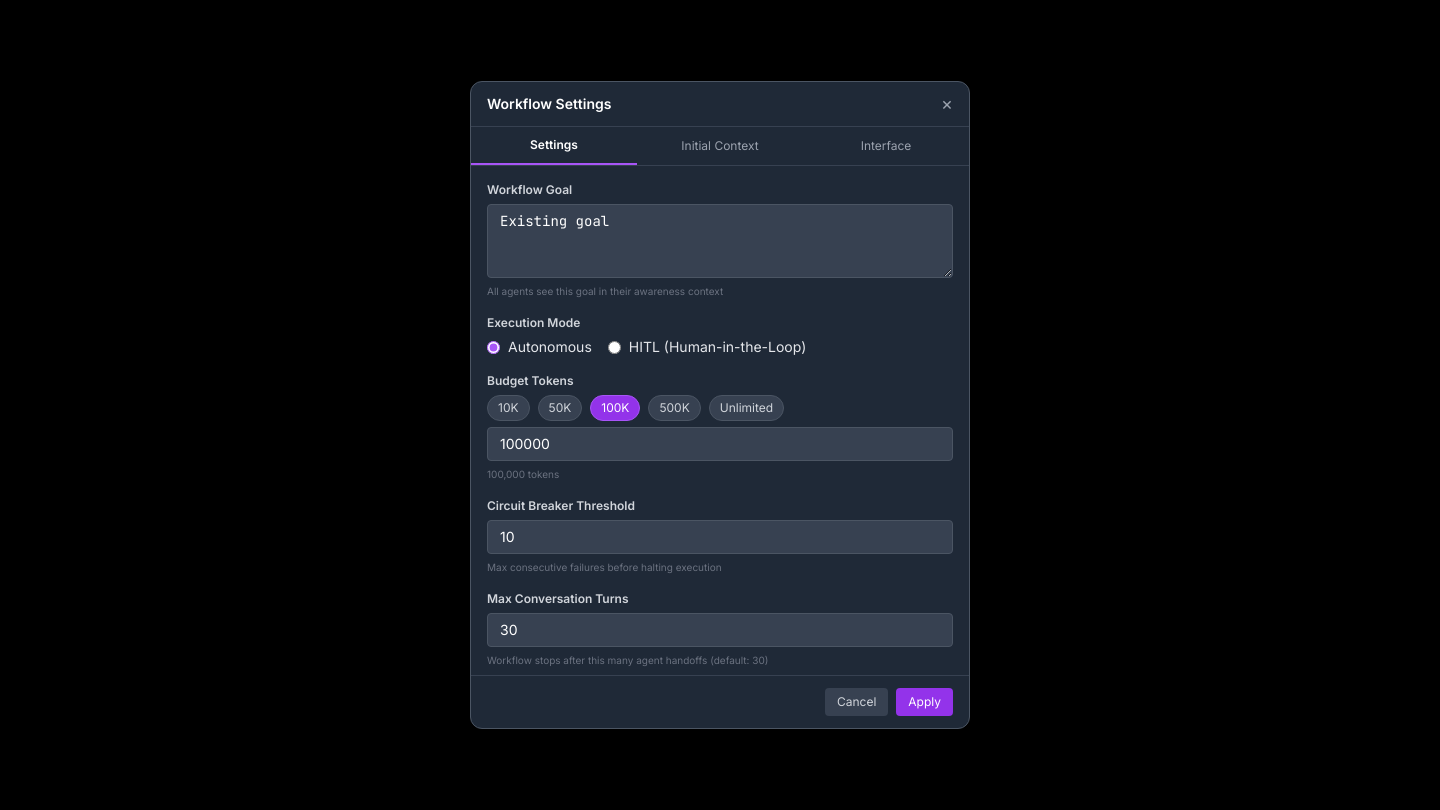
WorkflowSettingsModal workflow-native interface contracts › loads existing contracts and preserves the wave-one pack-authority guidance copy
This screenshot has width=1440, height=810.
Click the button "Interface".
click(886, 146)  # box [803,127,969,165]
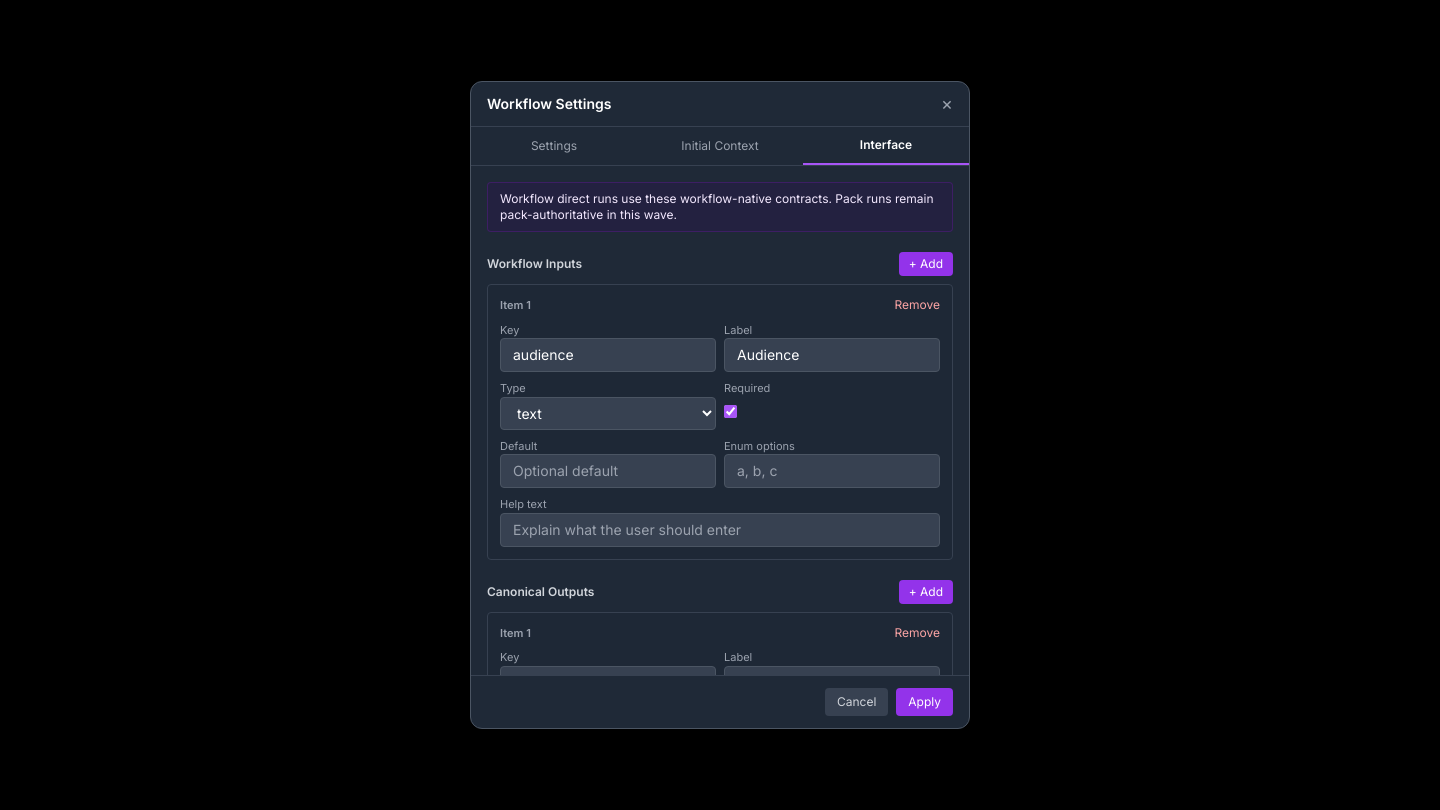
Now the field showing "audience" is shown, box [500,338,716,372]
Now the text "Pack runs remain pack-authoritative" is shown, box [500,191,934,222]
